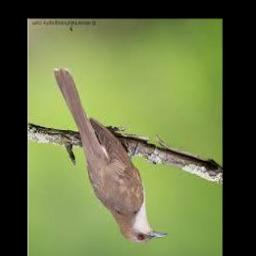Cuckoo: (54, 69, 168, 243)
